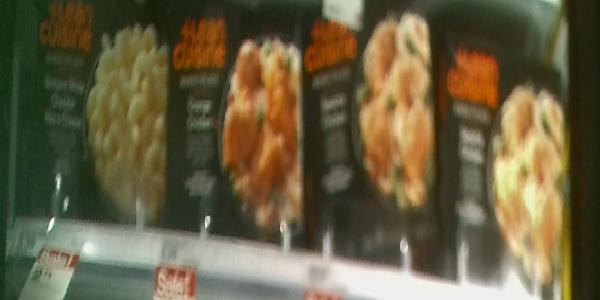pizza1: (304, 6, 445, 300), (165, 5, 304, 257), (447, 39, 571, 299), (34, 5, 164, 239)
